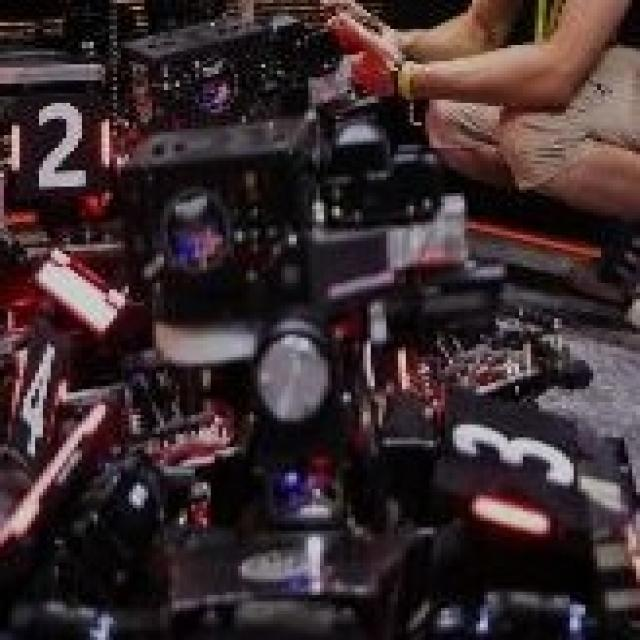R2: (8, 100, 109, 190)
